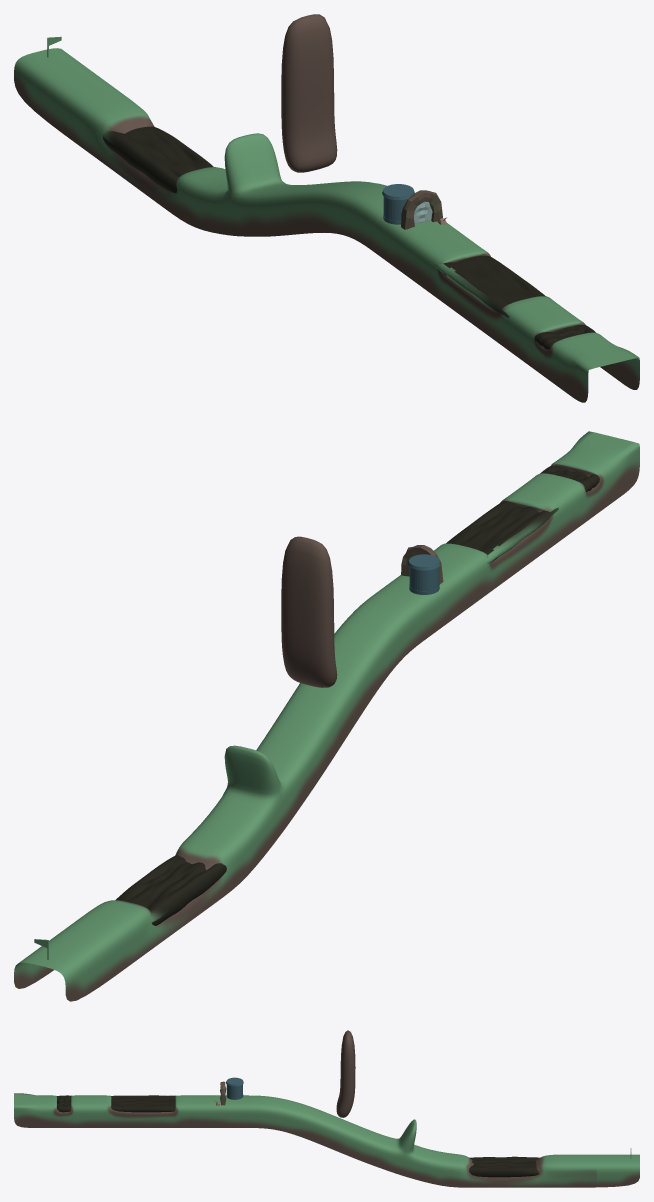
The model's file is EscenarioTurorial.fbx.
3 views of the same model, one above another, from view 1: azimuth 30°, elevation 25°; view 2: azimuth 150°, elevation 25°; view 3: azimuth 270°, elevation 25° (orthographic). The views are drawn at different scales.
Parts seen in each view (by area): view 1: Cubo, MetaBola.002, MetaBola.001, Cubo.002, Cilindro, MetaBola.024; view 2: Cubo, MetaBola.002, MetaBola.001, Cilindro; view 3: Cubo, MetaBola.002, MetaBola.001, Cilindro.
Boxes of the visible parts, x1=… form: Cubo: x1=14, y1=14, x2=639, y2=402; MetaBola.002: x1=102, y1=126, x2=213, y2=193; MetaBola.001: x1=435, y1=255, x2=545, y2=318; Cubo.002: x1=401, y1=190, x2=442, y2=229; Cilindro: x1=382, y1=184, x2=414, y2=224; MetaBola.024: x1=534, y1=325, x2=595, y2=349; Cubo: x1=14, y1=431, x2=639, y2=1001; MetaBola.002: x1=115, y1=855, x2=226, y2=925; MetaBola.001: x1=446, y1=501, x2=558, y2=563; Cilindro: x1=408, y1=554, x2=440, y2=594; Cubo: x1=14, y1=1030, x2=639, y2=1187; MetaBola.002: x1=469, y1=1156, x2=539, y2=1177; MetaBola.001: x1=111, y1=1095, x2=175, y2=1112; Cilindro: x1=226, y1=1077, x2=243, y2=1099.
Size of the model in its own units: 410 by 2016 by 7705.
1 material, 1 textured.
